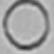no answer: (2, 0, 51, 52)
